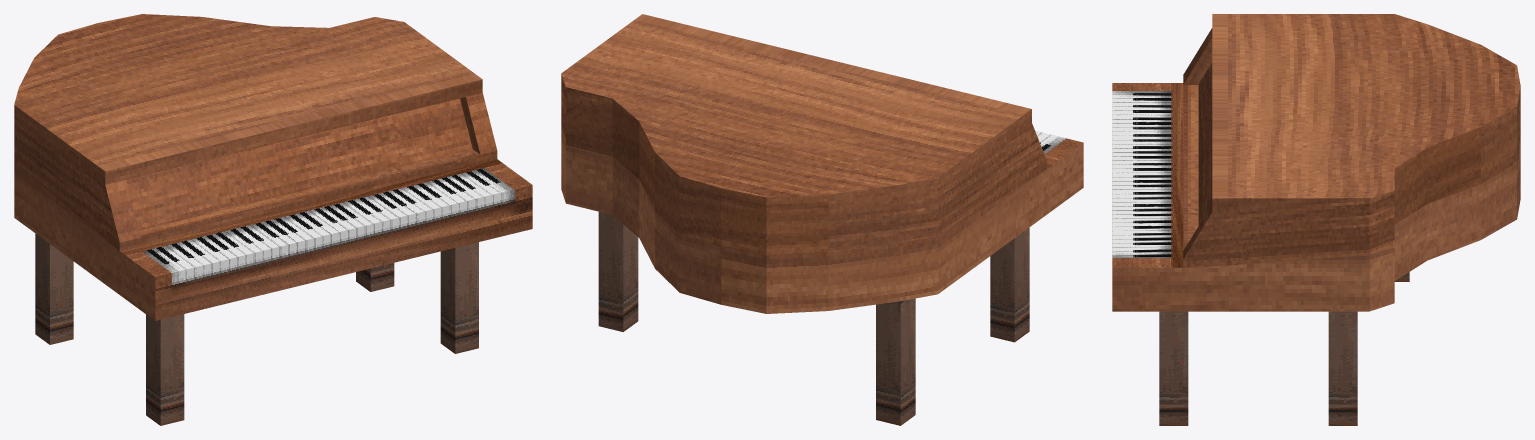
Rendered from Piano.glb.
3 views of the same model, side by side, from view 1: azimuth 30°, elevation 25°; view 2: azimuth 150°, elevation 25°; view 3: azimuth 270°, elevation 25° (orthographic). The views are drawn at different scales.
Visible parts, largest first — view 1: Piano; view 2: Piano; view 3: Piano.
Part boxes in pixels (left/top/right/bottom): Piano: left=14, top=14, right=532, bottom=425; Piano: left=561, top=14, right=1083, bottom=425; Piano: left=1112, top=14, right=1520, bottom=425.
Bounding box in the file's own units: 1.79 × 1.1 × 1.67.
1 material, 1 textured.
